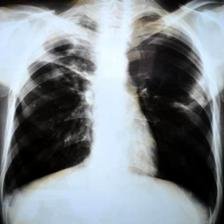tuberculosis: (0, 9, 223, 220)
